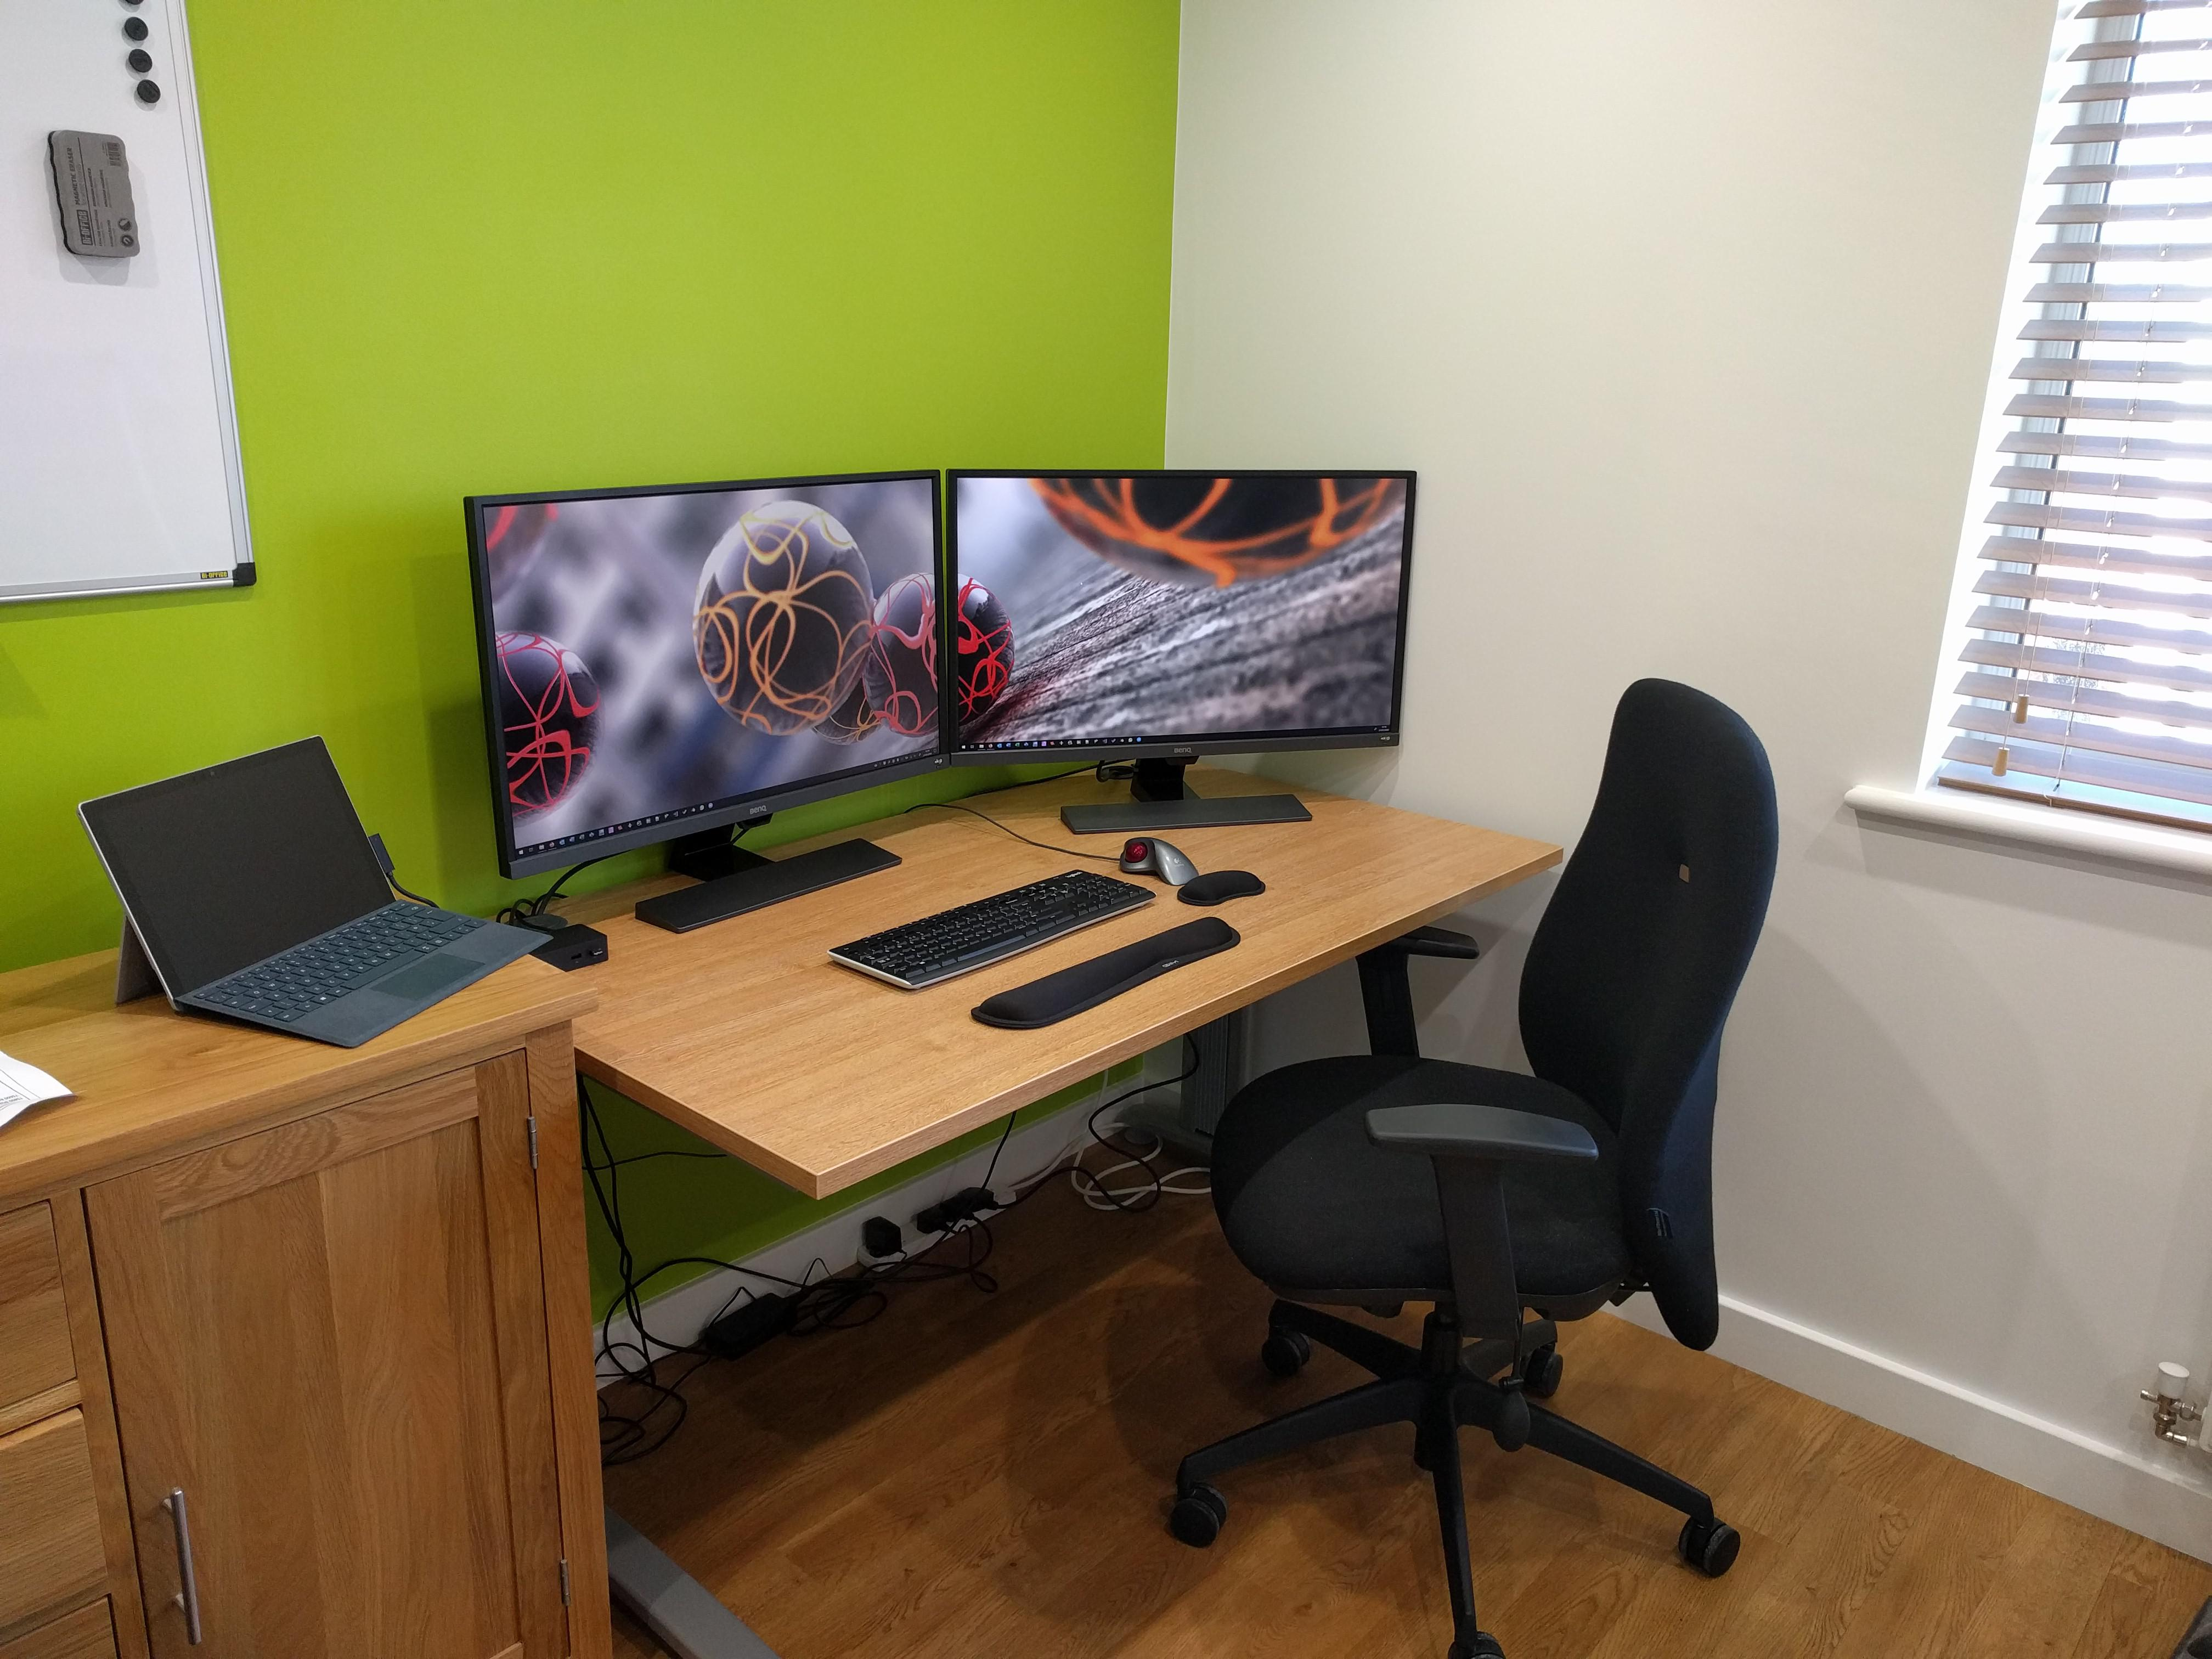Chair (Generic): (1177, 676, 1782, 1654)
Desk (Generic): (496, 763, 1562, 1657)
Keyboard (Generic): (829, 868, 1160, 993)
Laptop (Generic): (84, 737, 552, 1053)
Monitor (Landscape): (458, 467, 949, 936), (949, 467, 1423, 835)
Mouse (Ergonomic): (1122, 840, 1200, 889)
Power Strip: (855, 1178, 1017, 1269)
